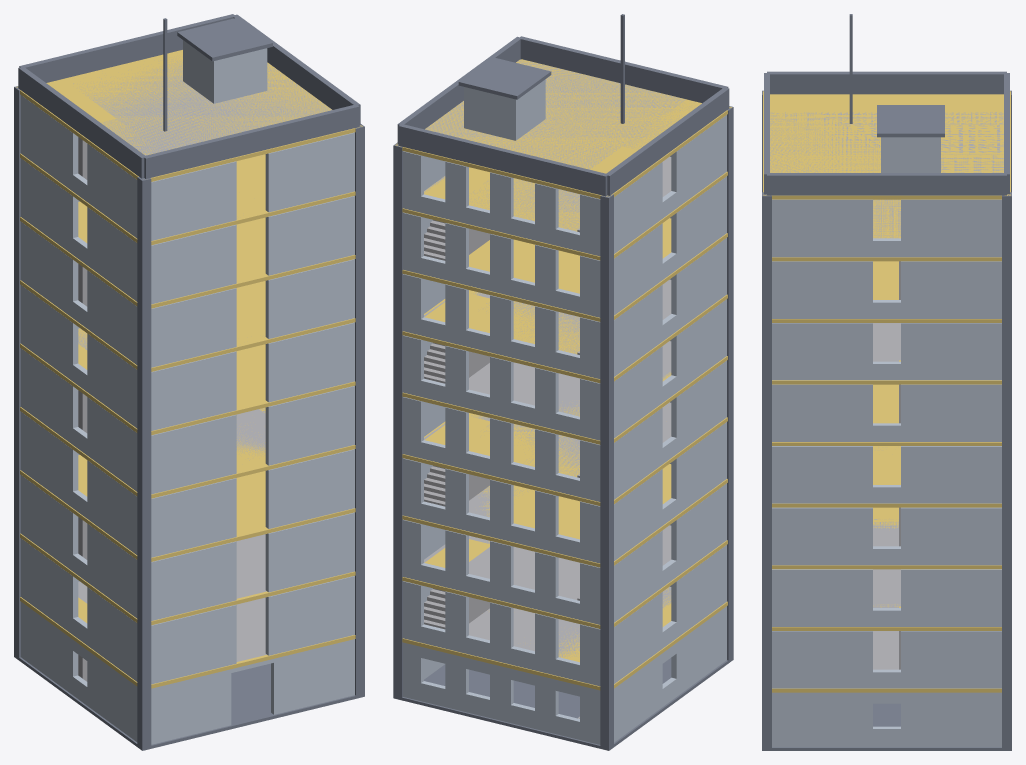
Rendered from highrise_b.glb.
The picture shows the model from 3 angles, left to right: view 1: azimuth 30°, elevation 25°; view 2: azimuth 150°, elevation 25°; view 3: azimuth 270°, elevation 25°; orthographic projection. The views are drawn at different scales.
Visible parts, largest first — view 1: highrise_b; view 2: highrise_b; view 3: highrise_b.
Part boxes in pixels (x1,y1,x2,y2): highrise_b: (14, 14, 364, 750); highrise_b: (393, 14, 733, 750); highrise_b: (762, 14, 1011, 750).
Size of the model in its own units: 12.5 by 36.6 by 12.5.
